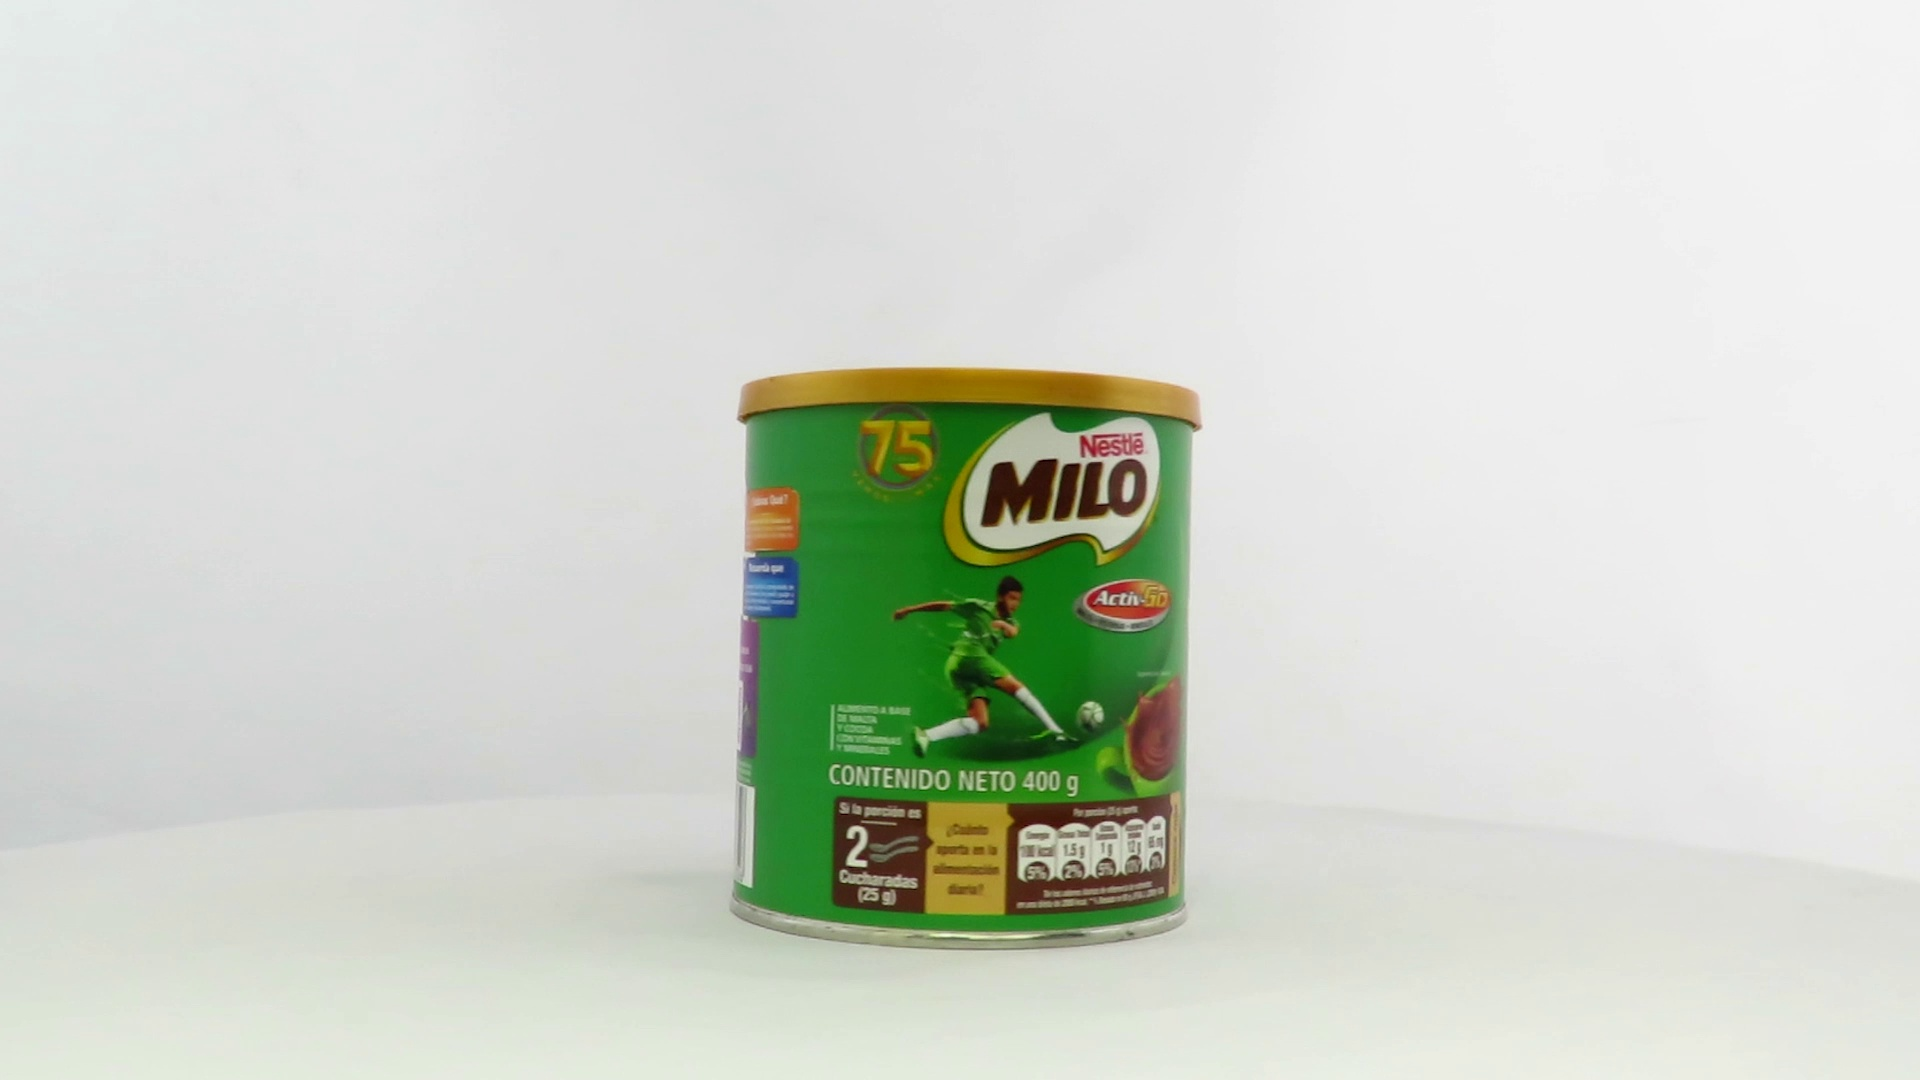COL0170203LAT40000: (724, 363, 1208, 957)
